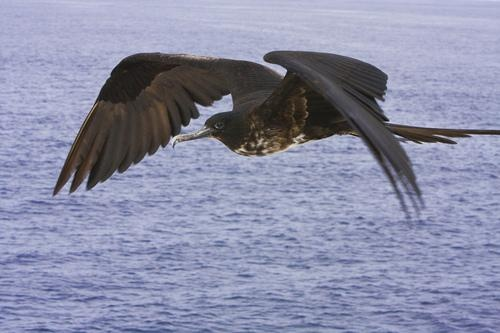bird: (53, 50, 487, 205)
